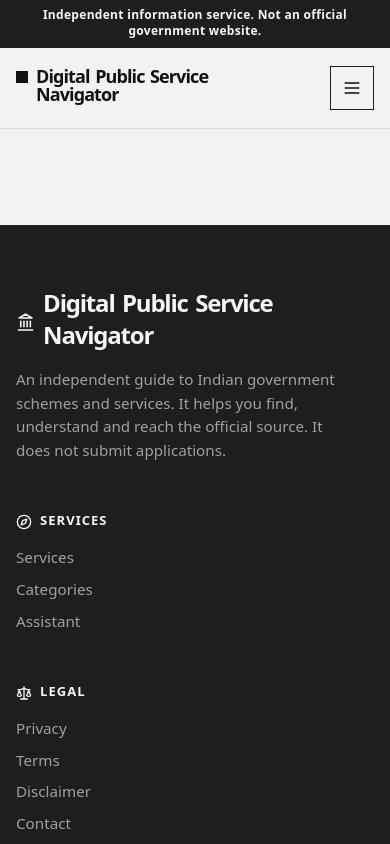
Layout › mobile menu toggle exposes expanded state
The image size is (390, 844).
Click the button named "menu": (352, 88) [330,66,374,110]
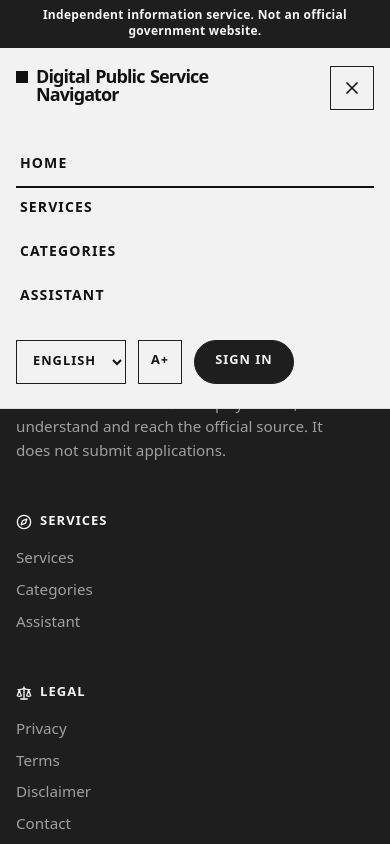
Check: the button named "menu" is expanded, box [330,66,374,110]
